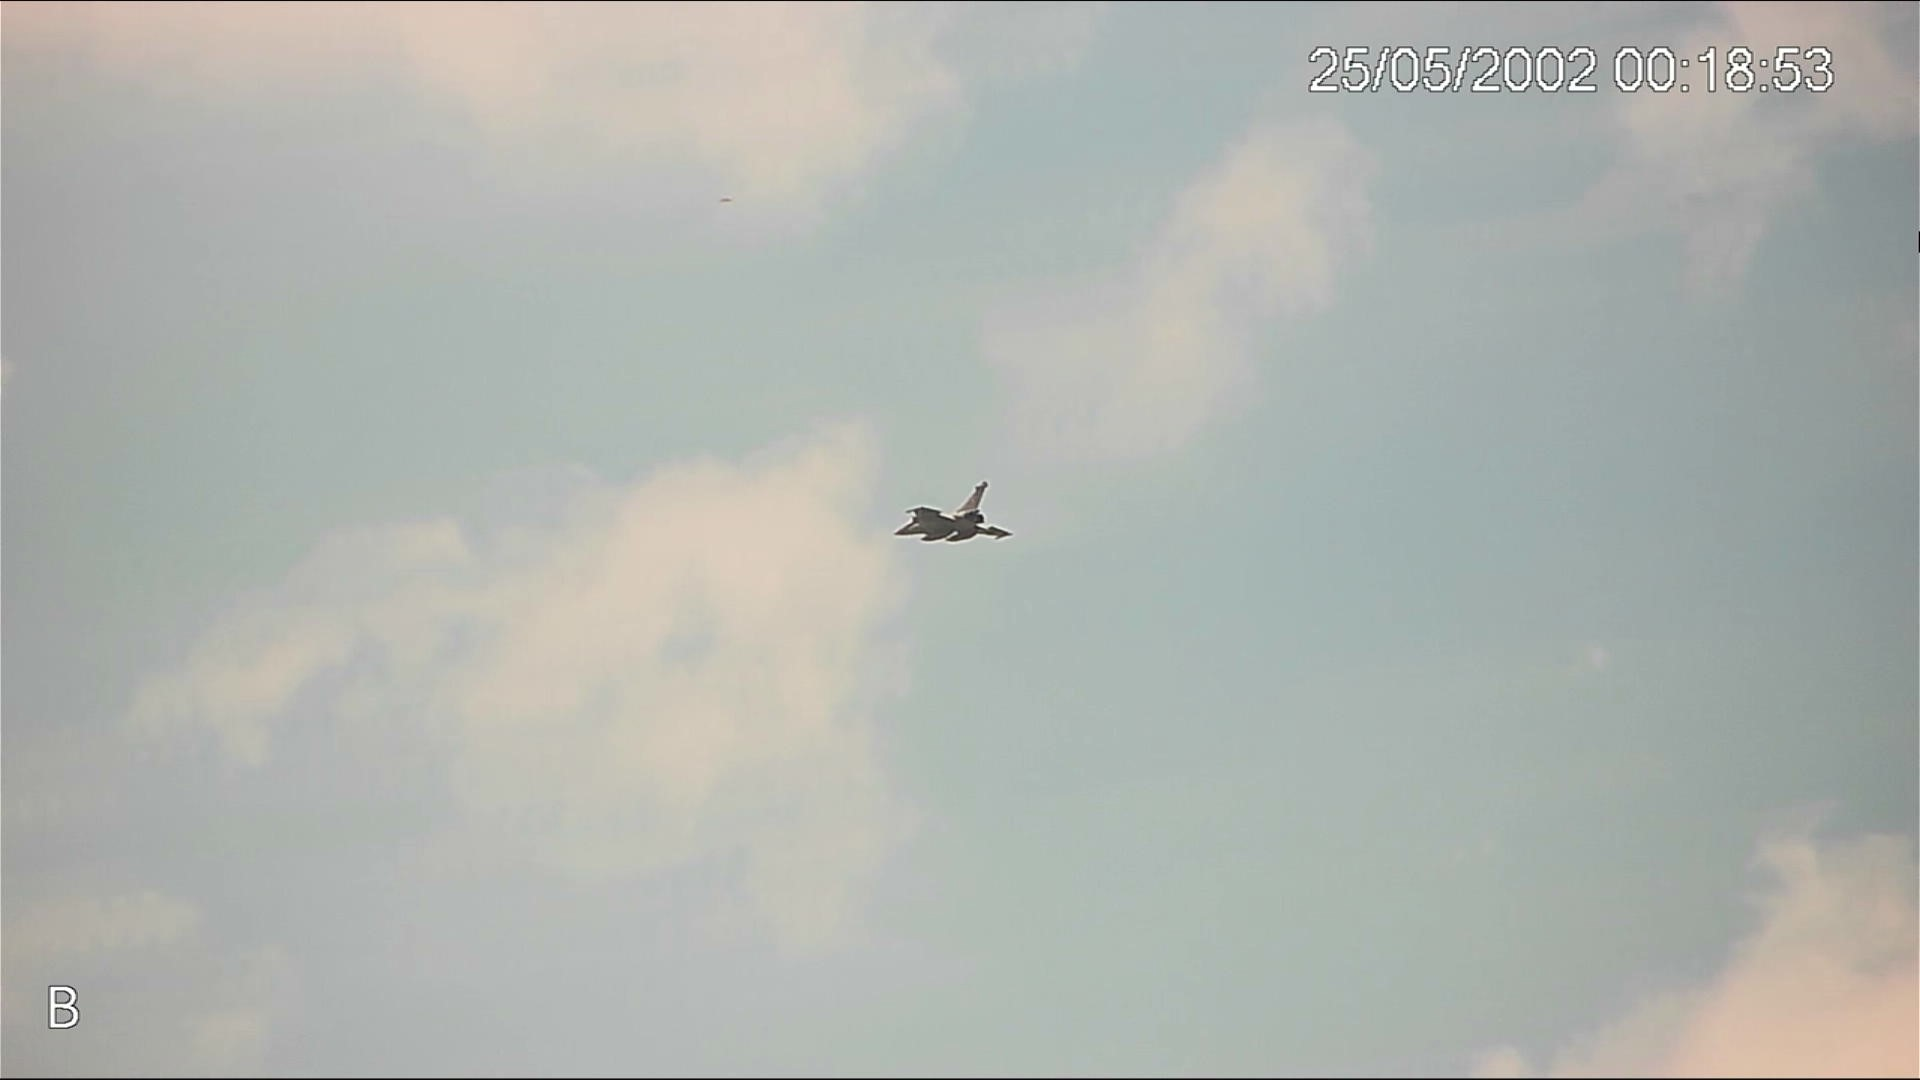SU_30: (889, 484, 1013, 547)
